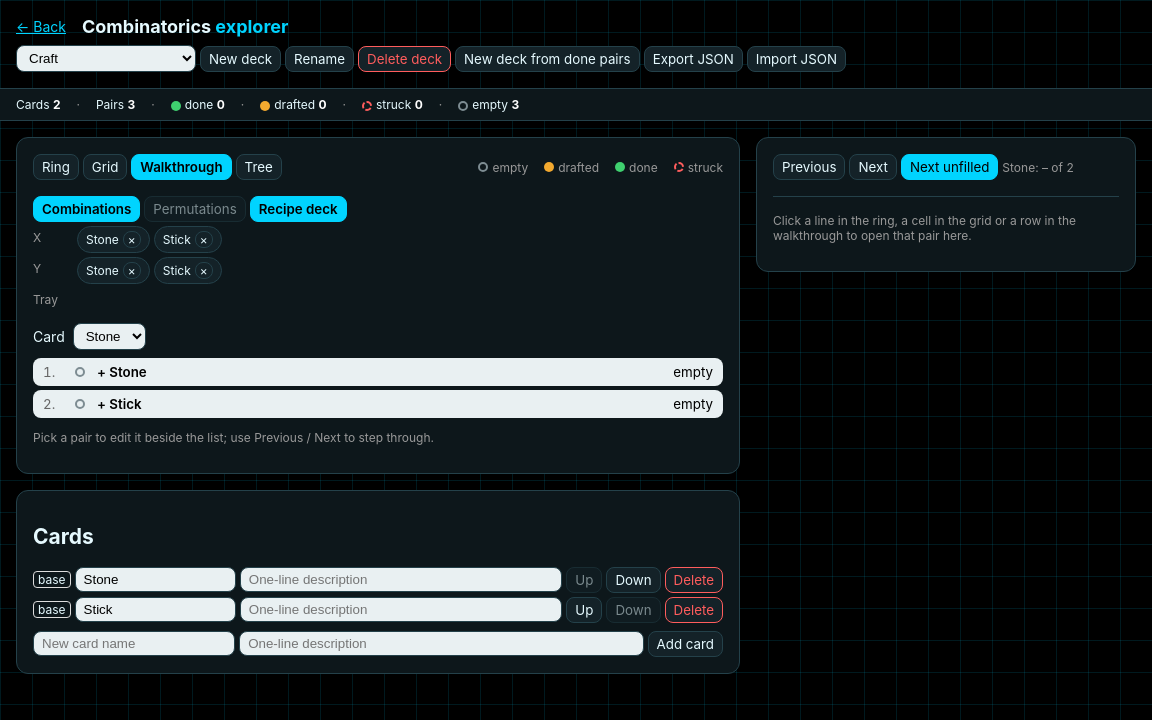
it: CombinationsPage recipe › next unfilled steps onto the same-item cell
Click the button "Next unfilled" at [950, 167], box [901,154,998,180]
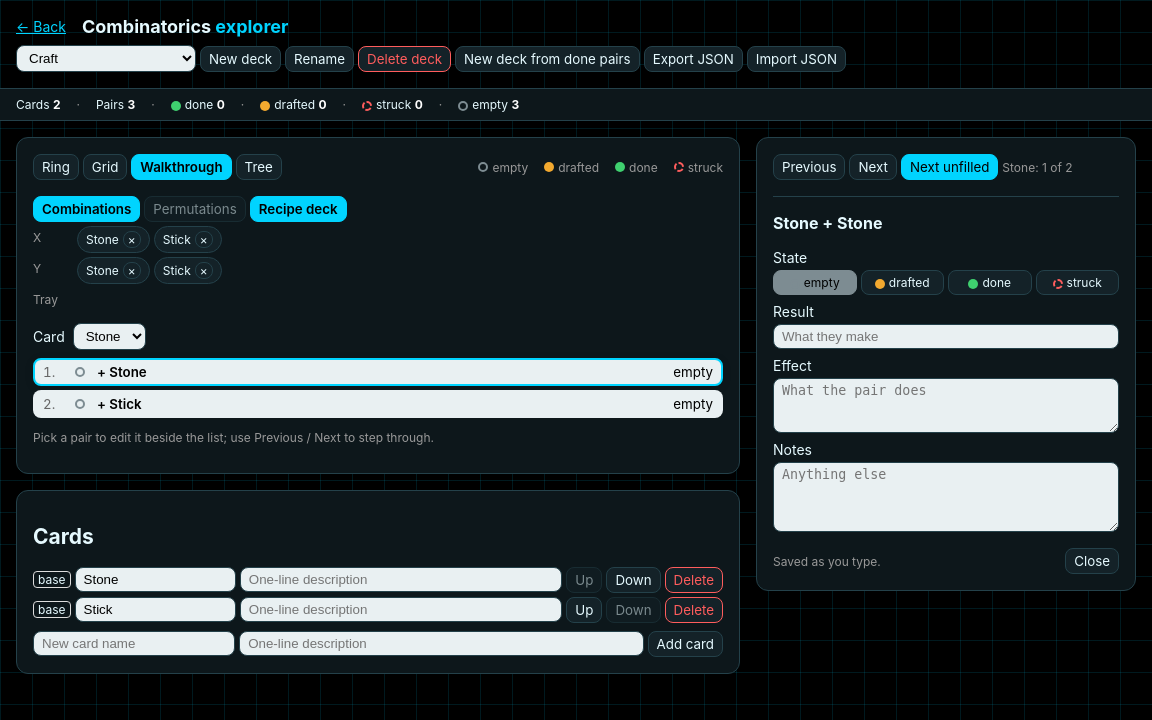
Expected: the heading "Stone + Stone" is shown, [773,213,882,233]
